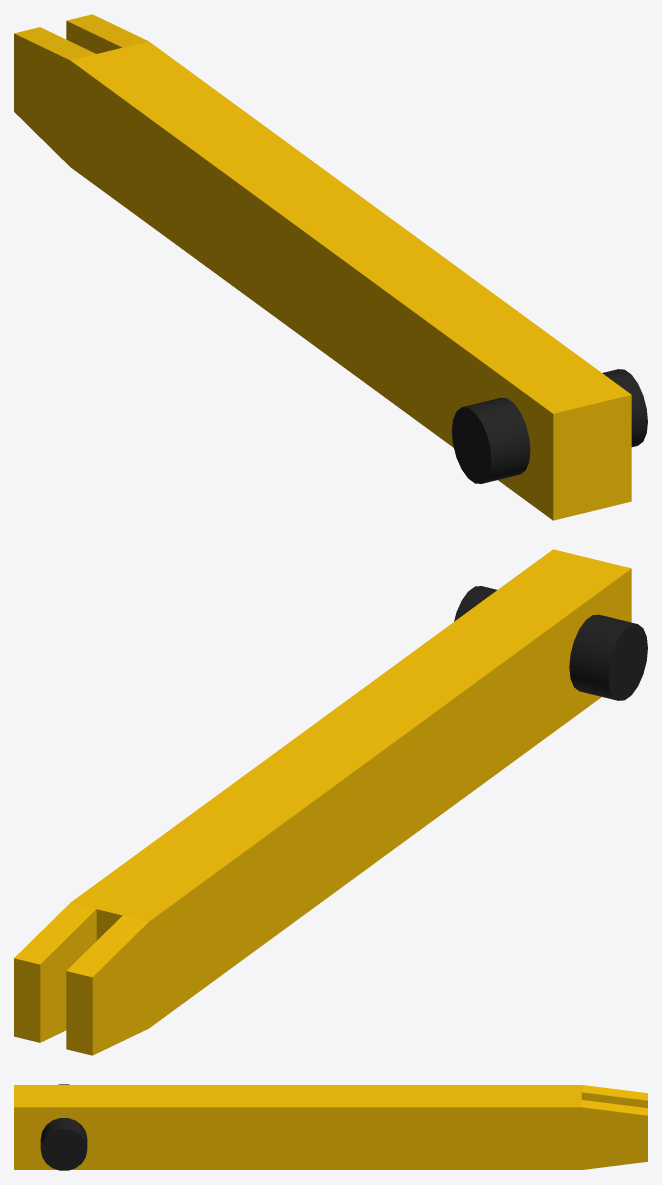
Rendered from brazo.dae.
The picture shows the model from 3 angles, top to bottom: view 1: azimuth 30°, elevation 25°; view 2: azimuth 150°, elevation 25°; view 3: azimuth 270°, elevation 25°; orthographic projection. The views are drawn at different scales.
Parts seen in each view (by area): view 1: brazo; view 2: brazo; view 3: brazo.
Part boxes in pixels (x1,y1,x2,y2): brazo: (14,14,647,520); brazo: (14,549,647,1055); brazo: (14,1084,647,1170).
Bounding box in the file's own units: 19.95 × 13 × 119.
